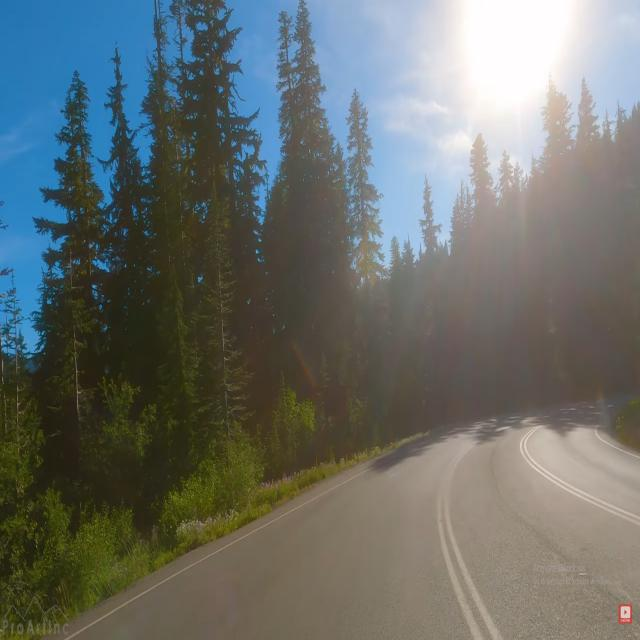sun: (429, 0, 599, 126)
